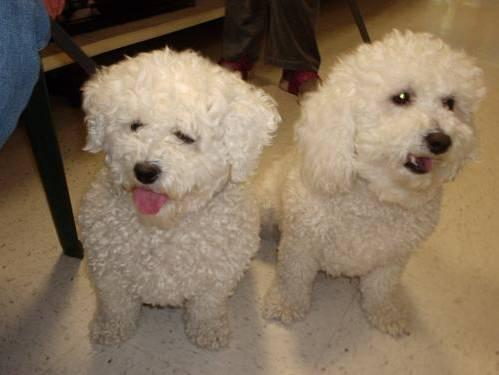dog: (76, 29, 489, 350)
